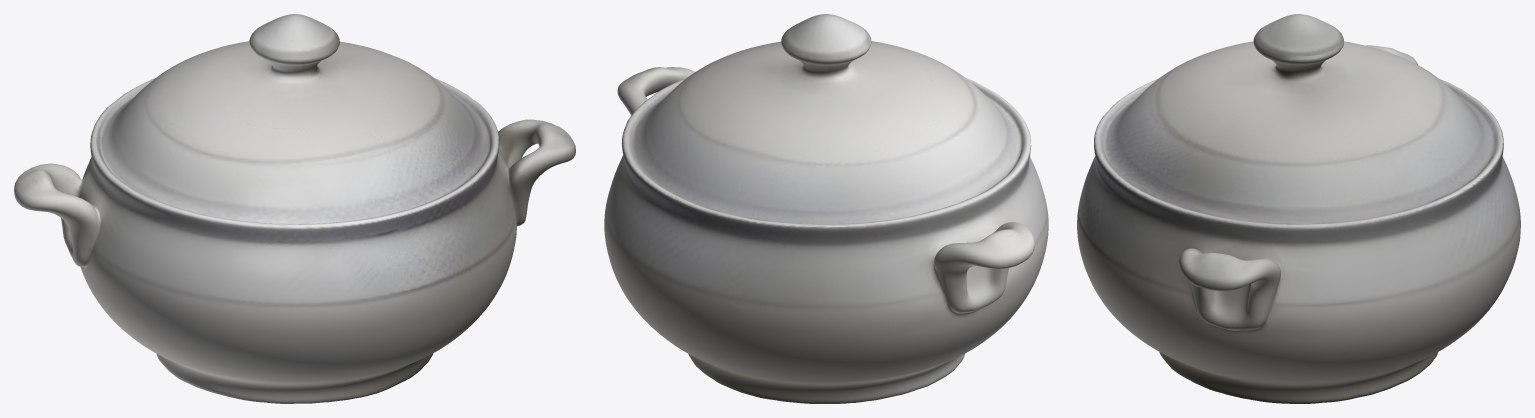
Rendered from model_porcelain_teapot.glb.
3 renders of one model, left to right at view 1: azimuth 30°, elevation 25°; view 2: azimuth 150°, elevation 25°; view 3: azimuth 270°, elevation 25°, orthographic.
Visible parts, largest first — view 1: tripo_node_896f9aee-deee-4b21-8e0c-3338497ccaa5; view 2: tripo_node_896f9aee-deee-4b21-8e0c-3338497ccaa5; view 3: tripo_node_896f9aee-deee-4b21-8e0c-3338497ccaa5.
Part boxes in pixels (bbox=[...]): tripo_node_896f9aee-deee-4b21-8e0c-3338497ccaa5: bbox=[14, 14, 575, 403]; tripo_node_896f9aee-deee-4b21-8e0c-3338497ccaa5: bbox=[604, 14, 1048, 403]; tripo_node_896f9aee-deee-4b21-8e0c-3338497ccaa5: bbox=[1077, 14, 1520, 403].
Size of the model in its own units: 0.9988 by 0.6596 by 0.806.
Materials: 1 (1 with a texture image).
